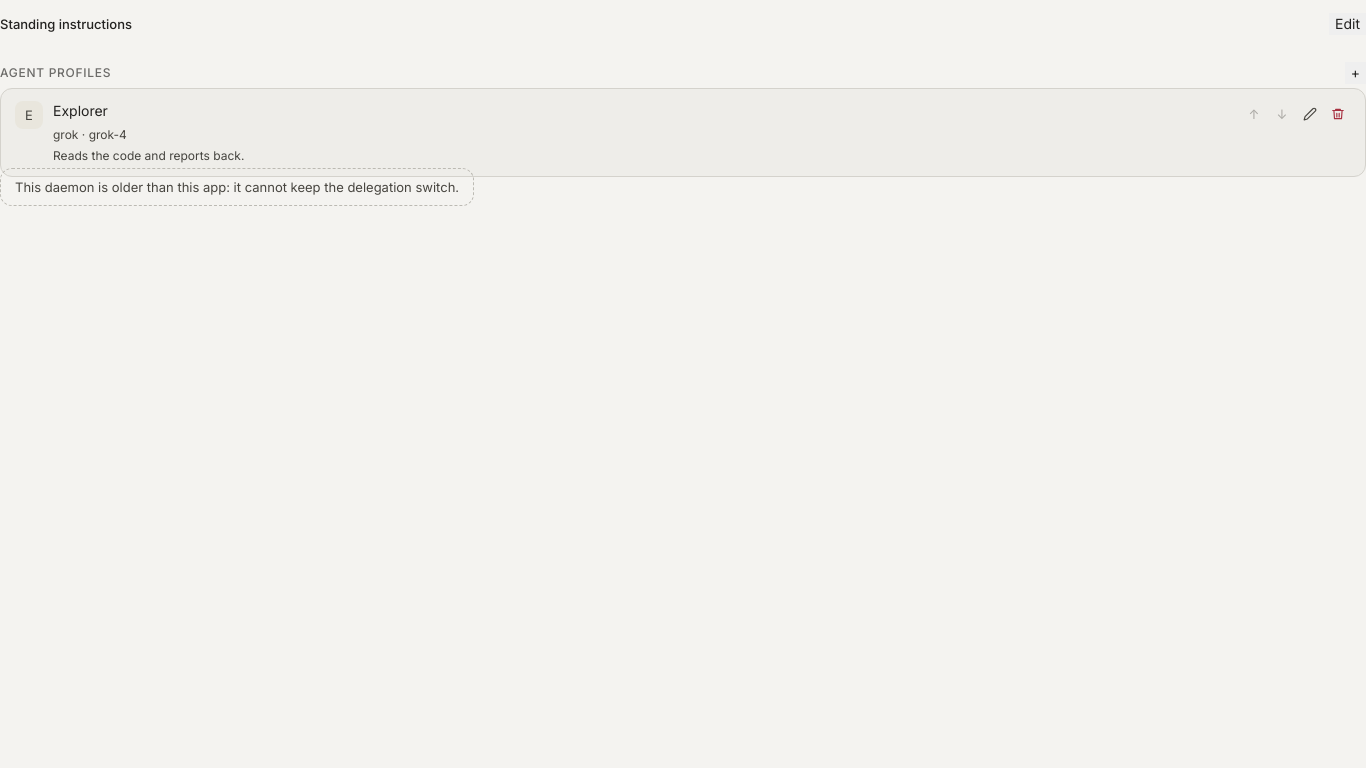
Test: Settings agents panel — standing instructions › refuses standing instructions over 8 KiB with the size named and truncates nothing
Click the button "Edit". click: {"x": 1348, "y": 24}
box: [1329,13,1365,35]
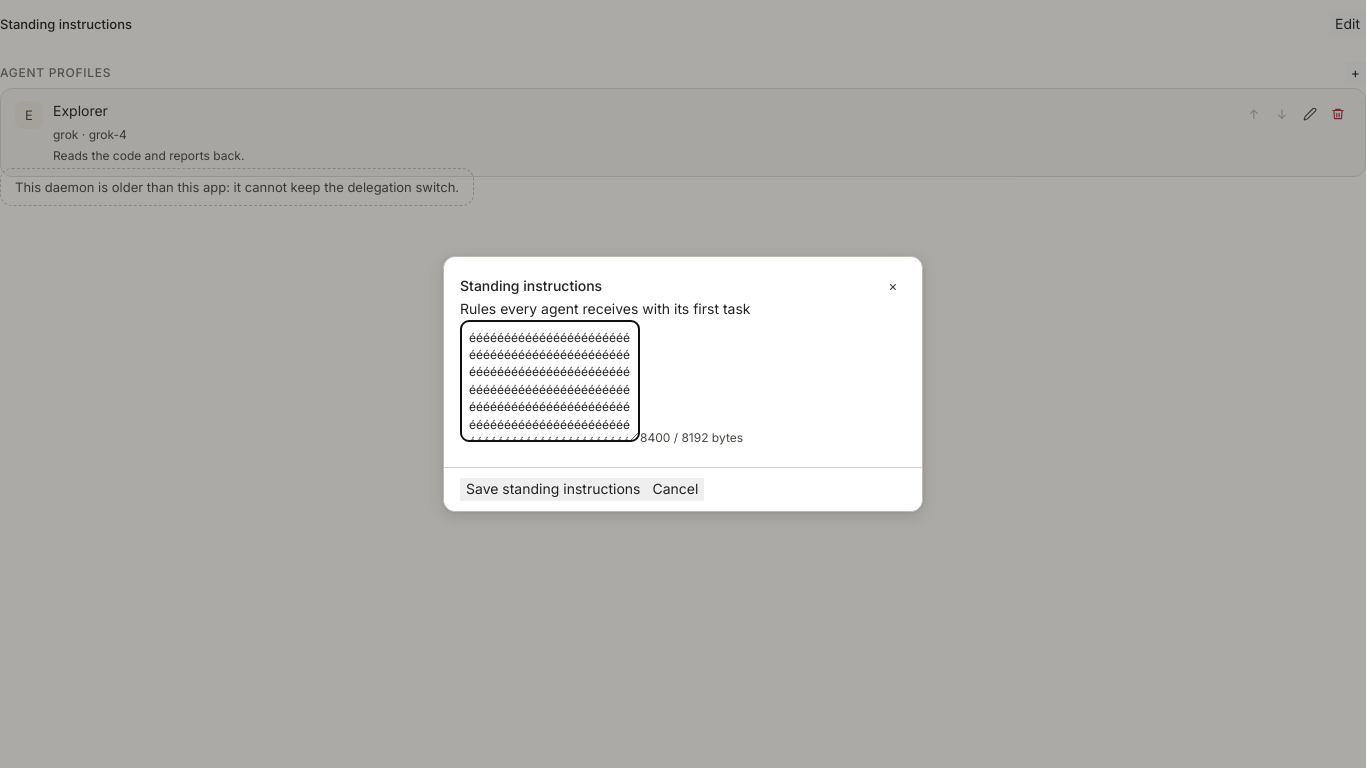
Click the button "Save standing instructions". click: {"x": 553, "y": 489}
box: [460,478,646,501]
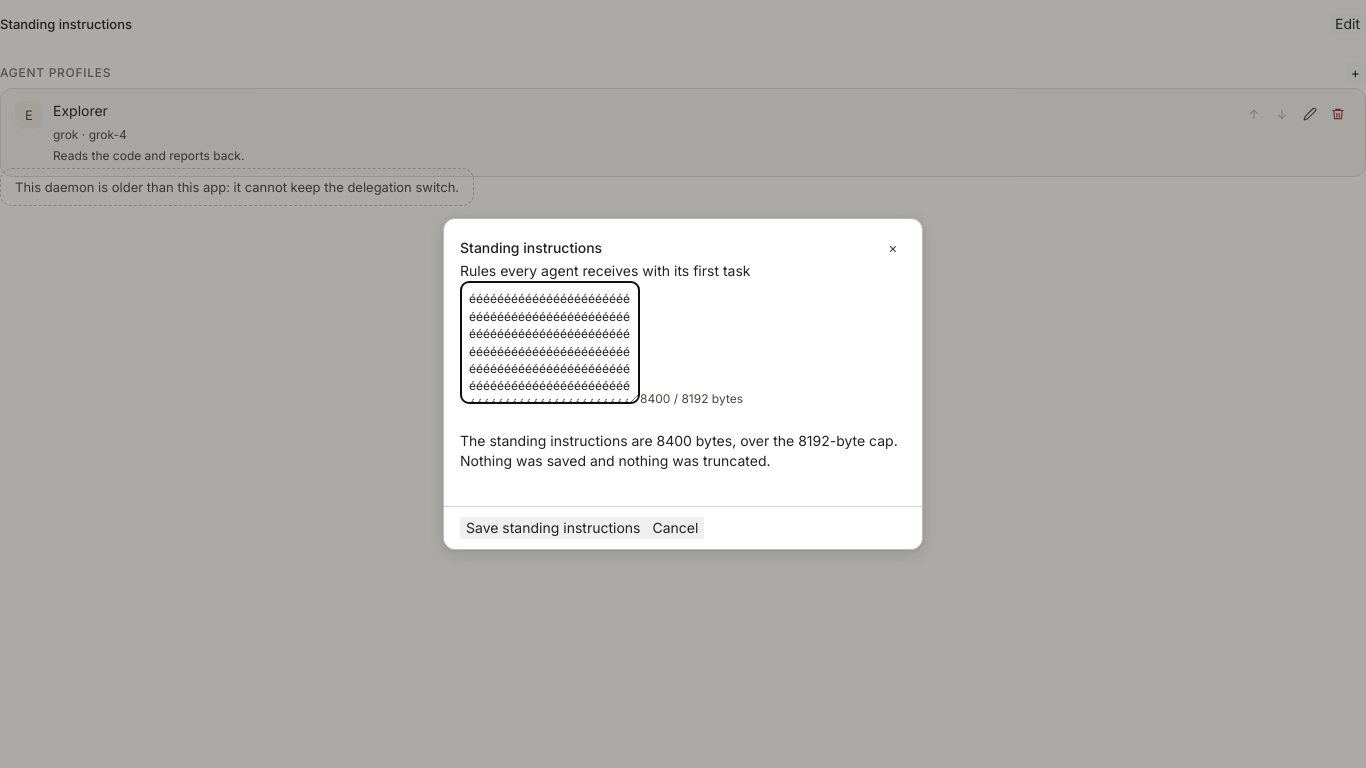
Result: the message shows "8400 bytes" at [460,432,898,469]
Result: the message shows "8192" at [460,432,898,469]
